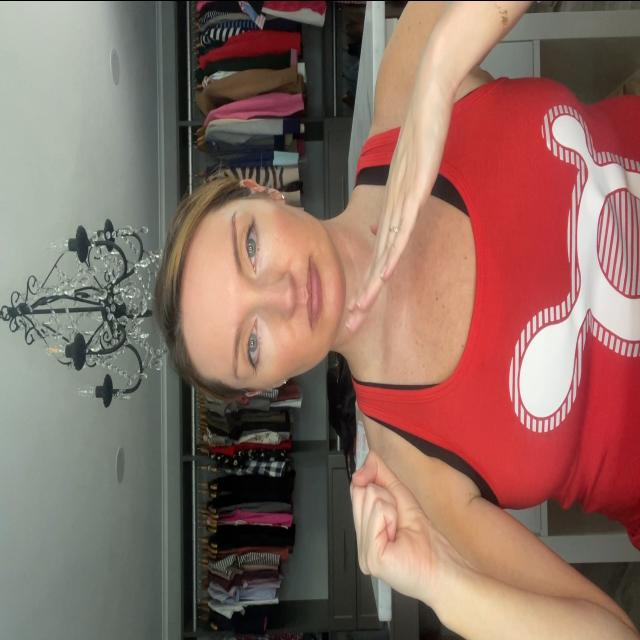Paper: (344, 85, 460, 332)
Rock: (350, 458, 442, 588)
